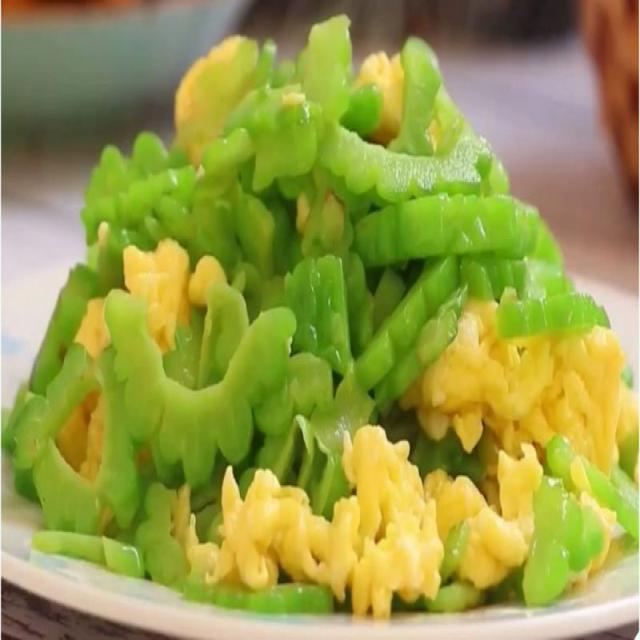kho qua: (0, 16, 639, 619)
